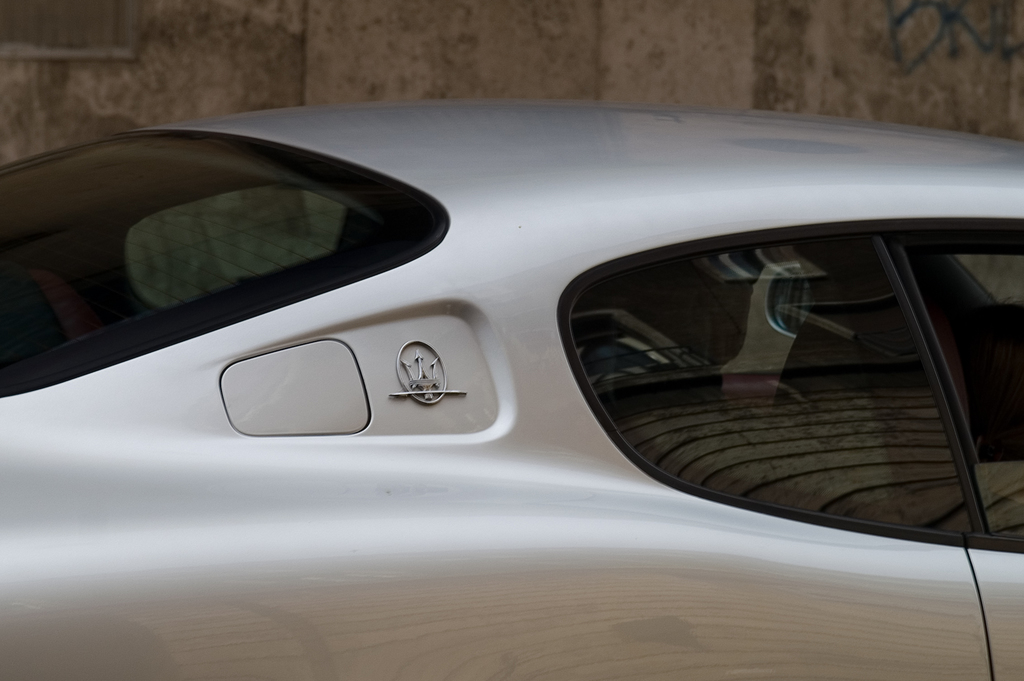Car: (22, 52, 994, 651)
